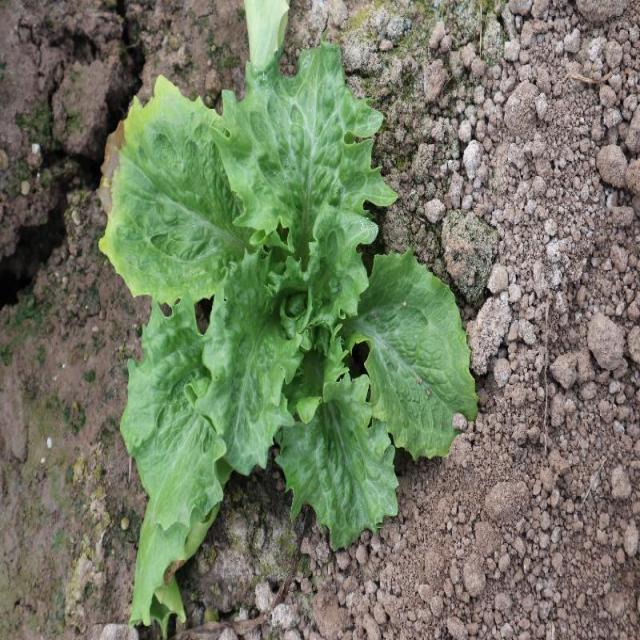crop: (99, 36, 479, 635)
